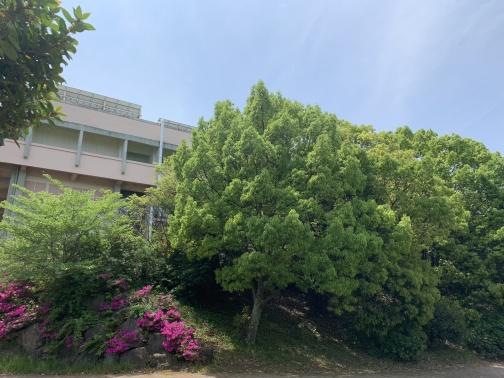College Of Education: (3, 79, 202, 230)
